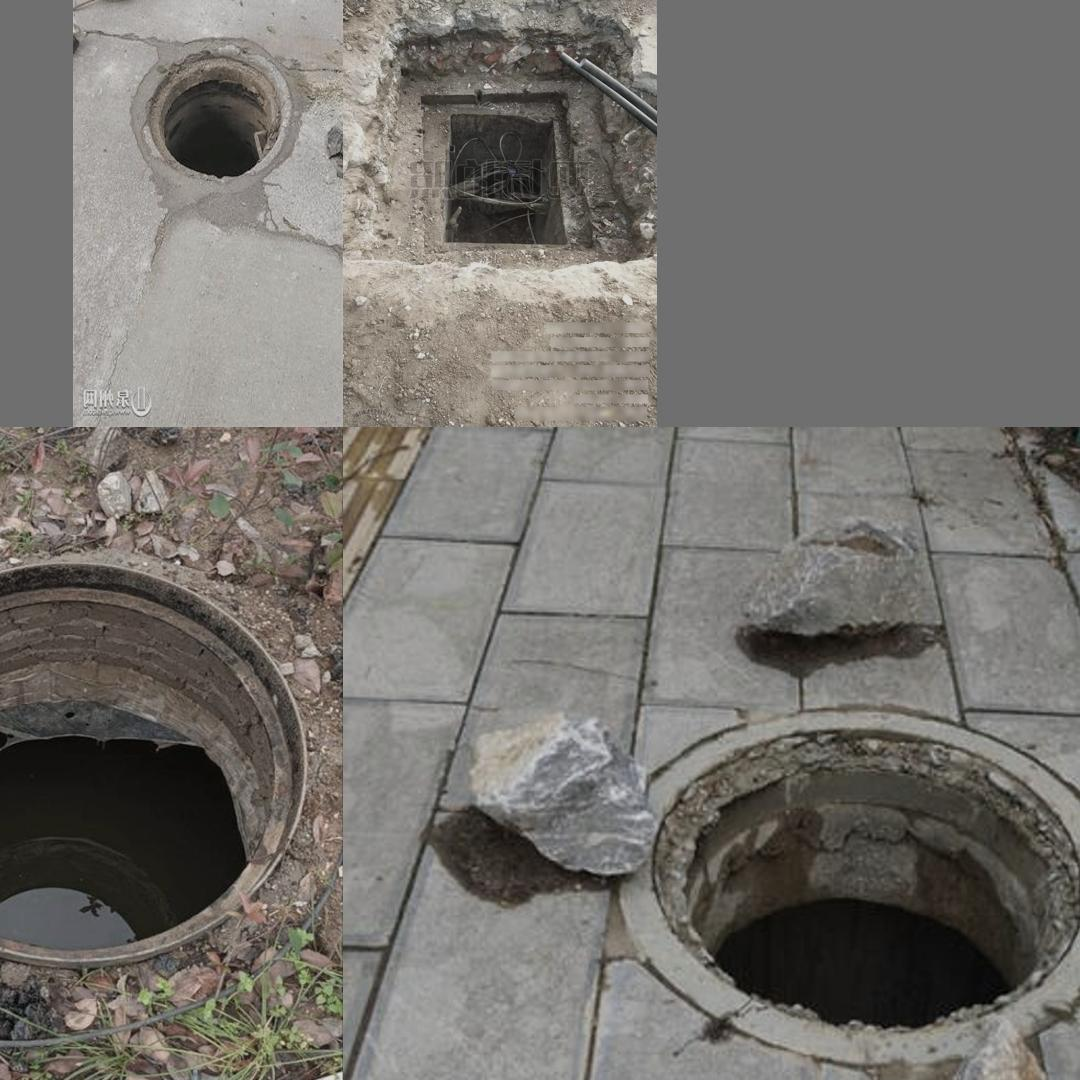lose: (594, 688, 1080, 1058), (0, 551, 310, 972), (125, 33, 305, 191), (442, 97, 569, 246)
